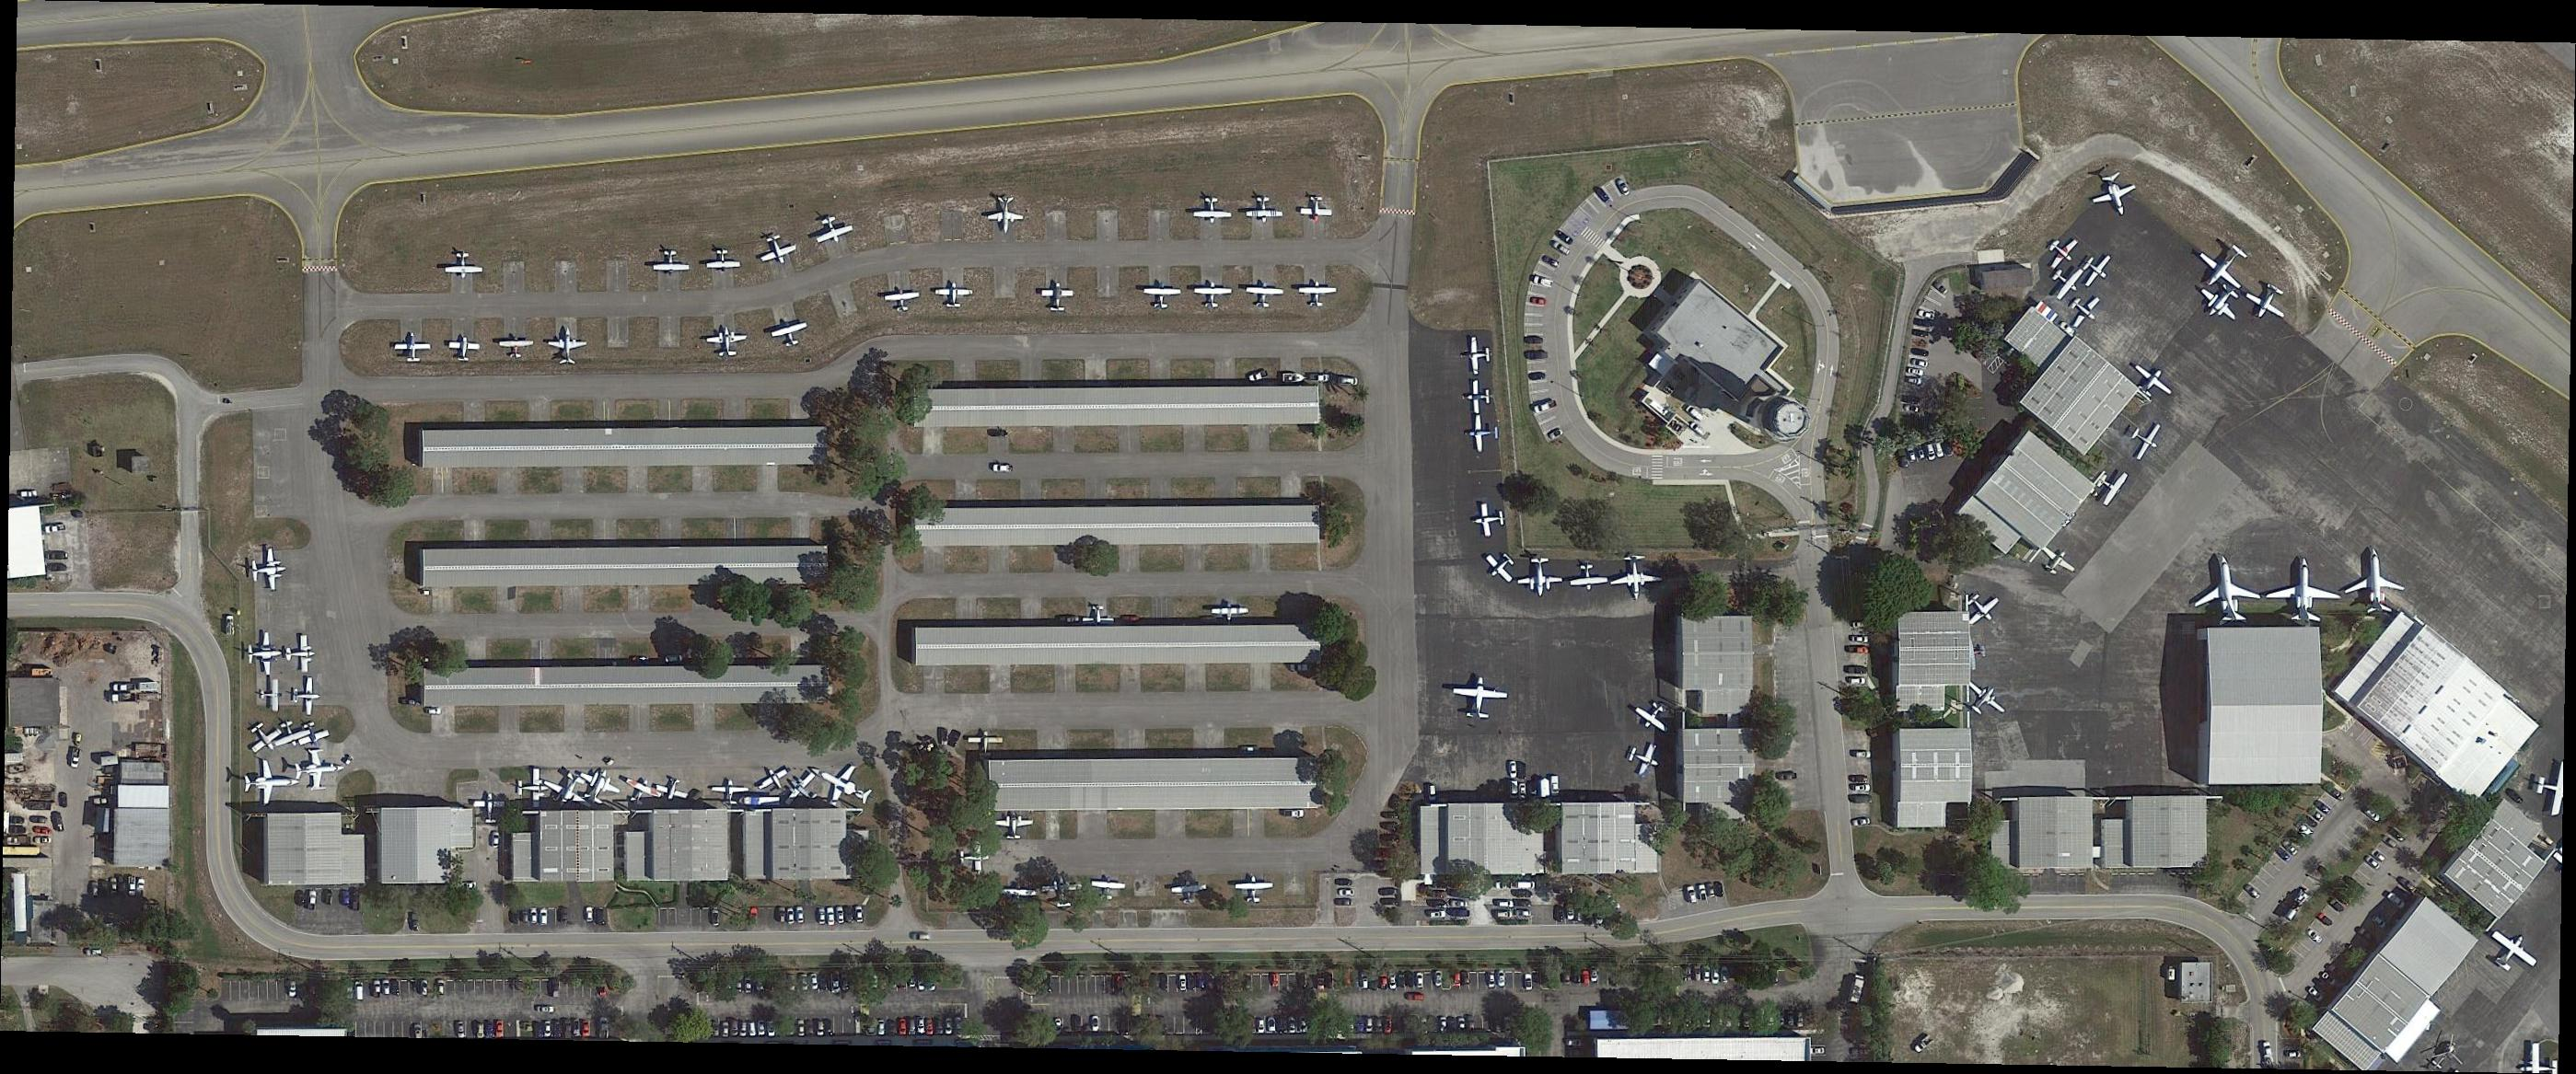plane: (797, 747, 879, 819), (2188, 553, 2262, 629), (2192, 232, 2259, 301), (2267, 560, 2341, 622), (2343, 547, 2407, 616), (2479, 921, 2543, 985), (539, 760, 601, 818), (2086, 169, 2144, 223), (2193, 276, 2249, 330), (2239, 278, 2295, 330), (2124, 355, 2178, 407), (1451, 673, 1510, 721), (1957, 675, 2011, 726), (570, 762, 626, 811), (243, 759, 301, 806), (1610, 553, 1663, 601), (777, 765, 826, 813), (2031, 540, 2080, 586), (1960, 585, 2006, 631), (2123, 415, 2167, 463), (294, 749, 345, 790), (2063, 287, 2108, 333), (1633, 696, 1677, 741), (2045, 258, 2088, 304), (2075, 246, 2118, 291), (812, 209, 856, 251), (245, 714, 287, 759), (2090, 461, 2131, 507), (751, 759, 797, 800), (2040, 232, 2083, 273), (1625, 737, 1664, 782), (1518, 558, 1562, 598), (1482, 545, 1521, 590), (756, 230, 800, 269), (621, 773, 665, 813), (269, 714, 314, 752), (251, 547, 287, 593), (769, 315, 812, 351), (248, 632, 283, 677), (986, 195, 1023, 235), (549, 328, 586, 365), (1042, 877, 1084, 908), (294, 716, 332, 750), (516, 769, 550, 806), (1958, 636, 1991, 675), (1569, 562, 1608, 593), (706, 325, 746, 356), (284, 634, 315, 673), (1234, 875, 1275, 905), (1460, 337, 1492, 374), (654, 775, 692, 806), (959, 841, 991, 879), (1245, 279, 1285, 309), (1298, 279, 1337, 309), (1142, 281, 1183, 309), (994, 813, 1035, 841), (1472, 503, 1505, 537), (1467, 415, 1498, 452), (935, 281, 974, 309), (1193, 197, 1232, 225), (394, 333, 430, 363), (652, 250, 690, 278), (292, 677, 320, 714), (711, 778, 749, 806), (1170, 880, 1207, 908), (1042, 284, 1076, 314), (1194, 282, 1232, 309), (445, 253, 483, 279), (706, 246, 743, 273), (1247, 197, 1283, 223), (1091, 875, 1127, 902), (968, 729, 1004, 755), (882, 289, 920, 314), (1000, 882, 1038, 906), (475, 793, 506, 823), (447, 337, 481, 363), (261, 677, 286, 713), (1211, 603, 1249, 626), (1465, 379, 1490, 414), (1301, 197, 1332, 223), (499, 337, 534, 360), (1083, 606, 1115, 627)
ship: (1283, 371, 1308, 384)
